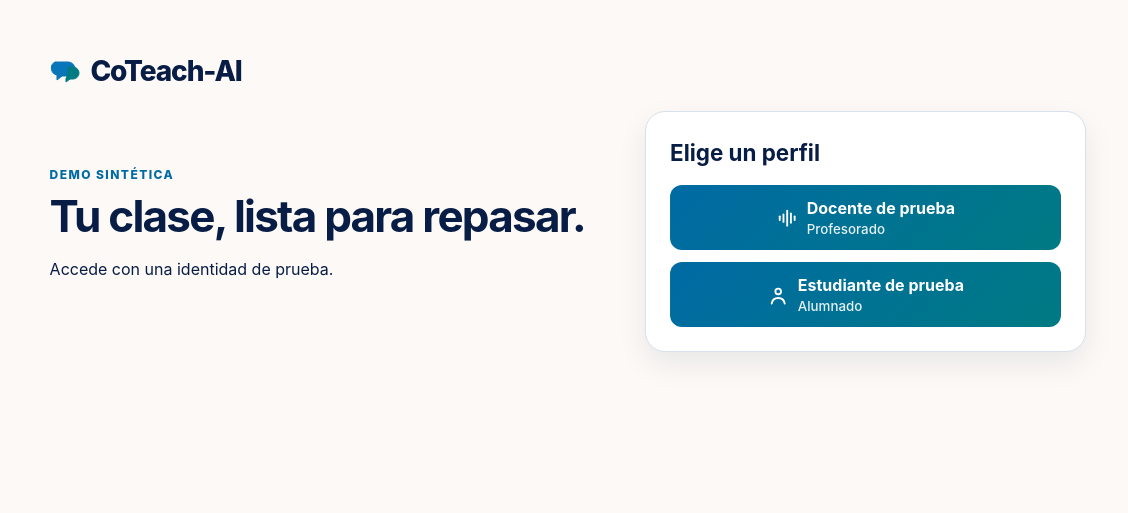
Test case: runs the synthetic teacher flow with MSW
The image size is (1128, 513).
Later steps or results of the test are not shown.
Click the button "Docente de prueba Profesorado".
click(866, 218)  # box left=670, top=185, right=1061, bottom=250
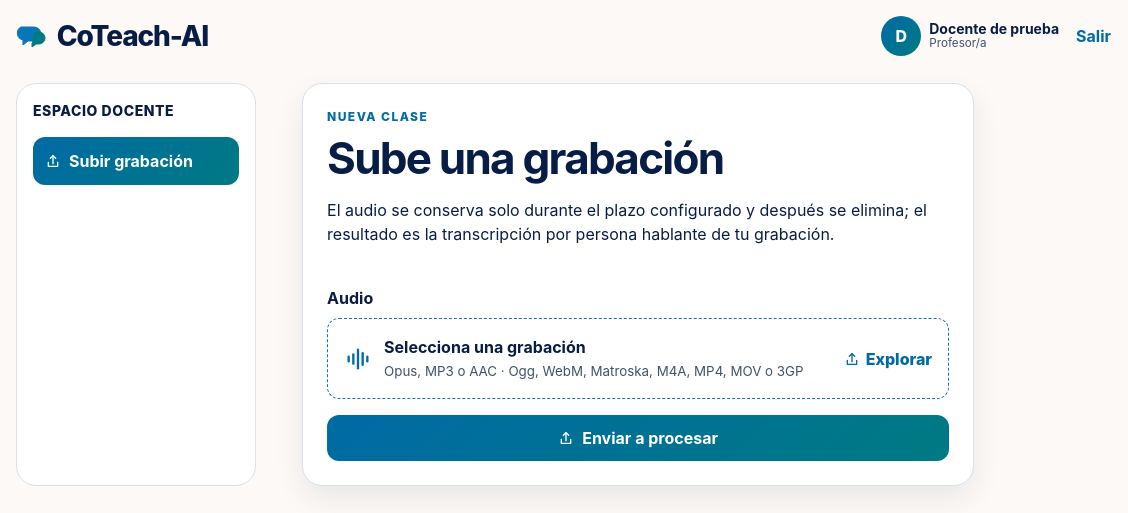
Result: the heading "Sube una grabación" is shown at left=327, top=131, right=723, bottom=185
